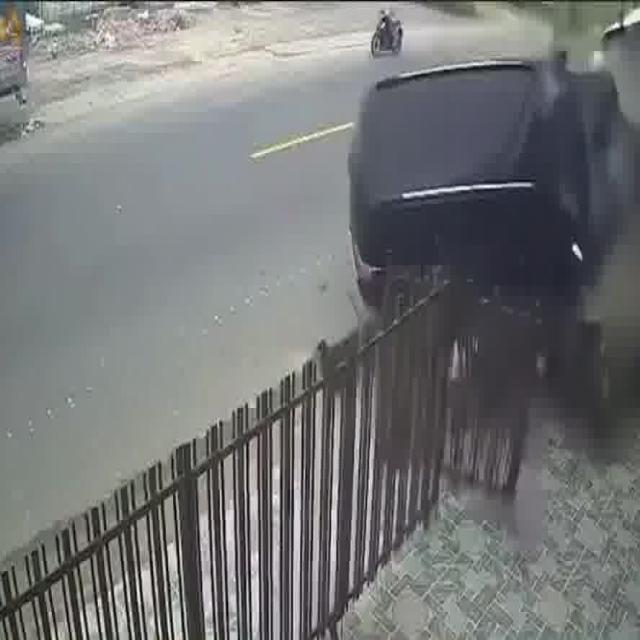single accident: (328, 33, 640, 515)
